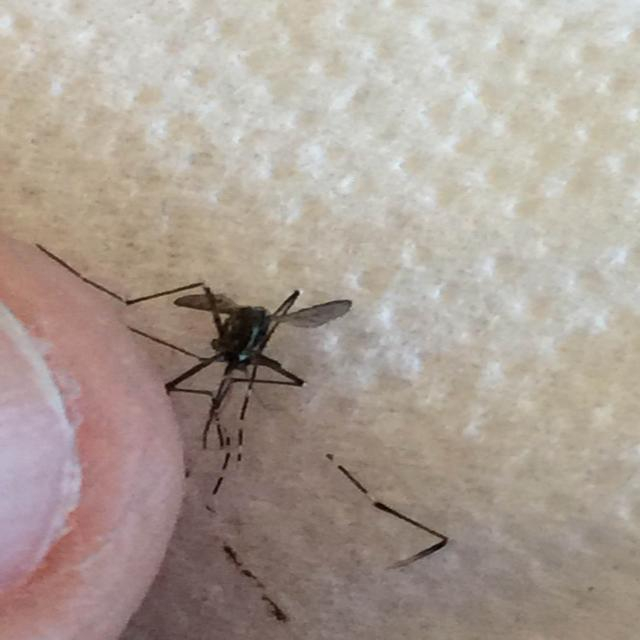albopictus: (39, 228, 349, 509)
